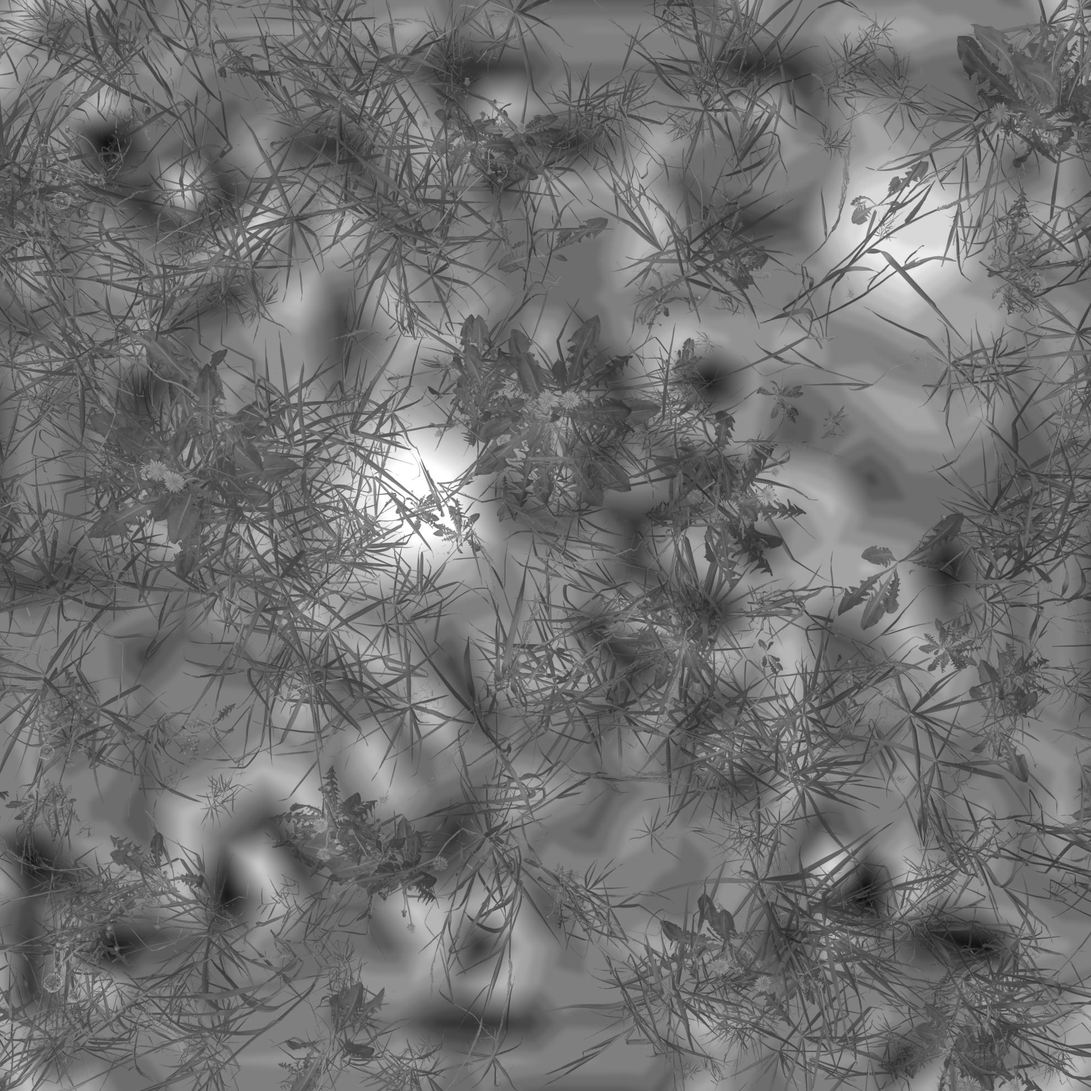landmine: (333, 433, 491, 580), (829, 151, 986, 294)
